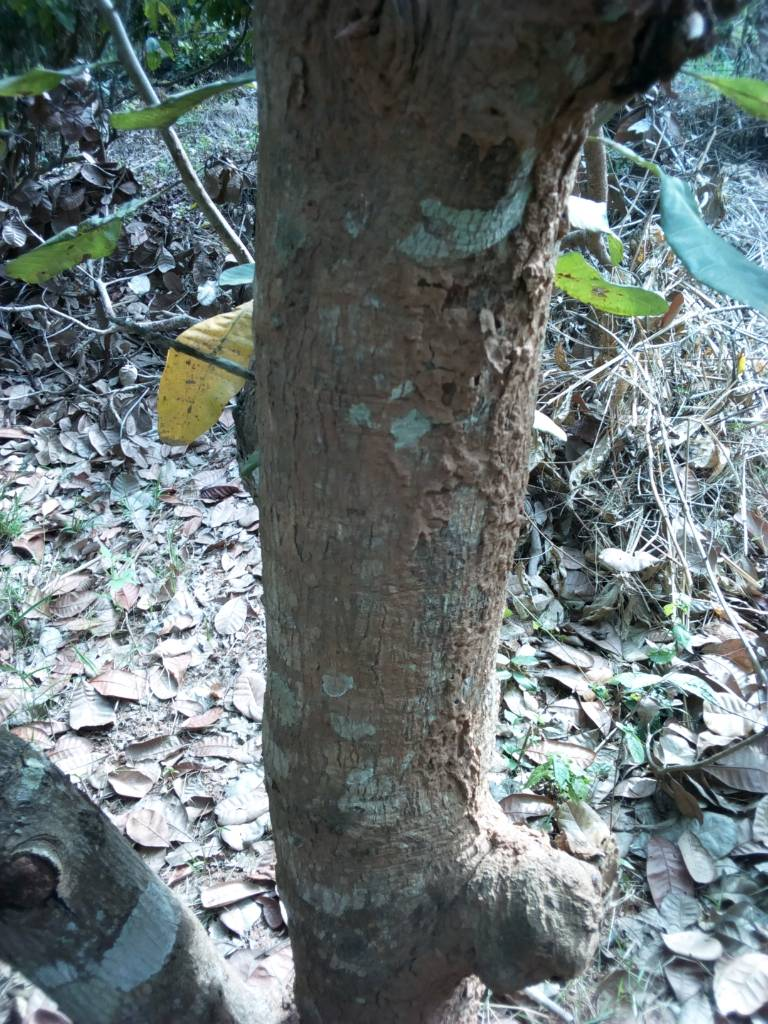Termites: (374, 116, 549, 846)
